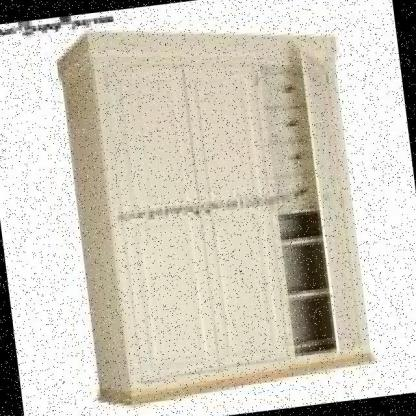Closet: (43, 0, 392, 416)
